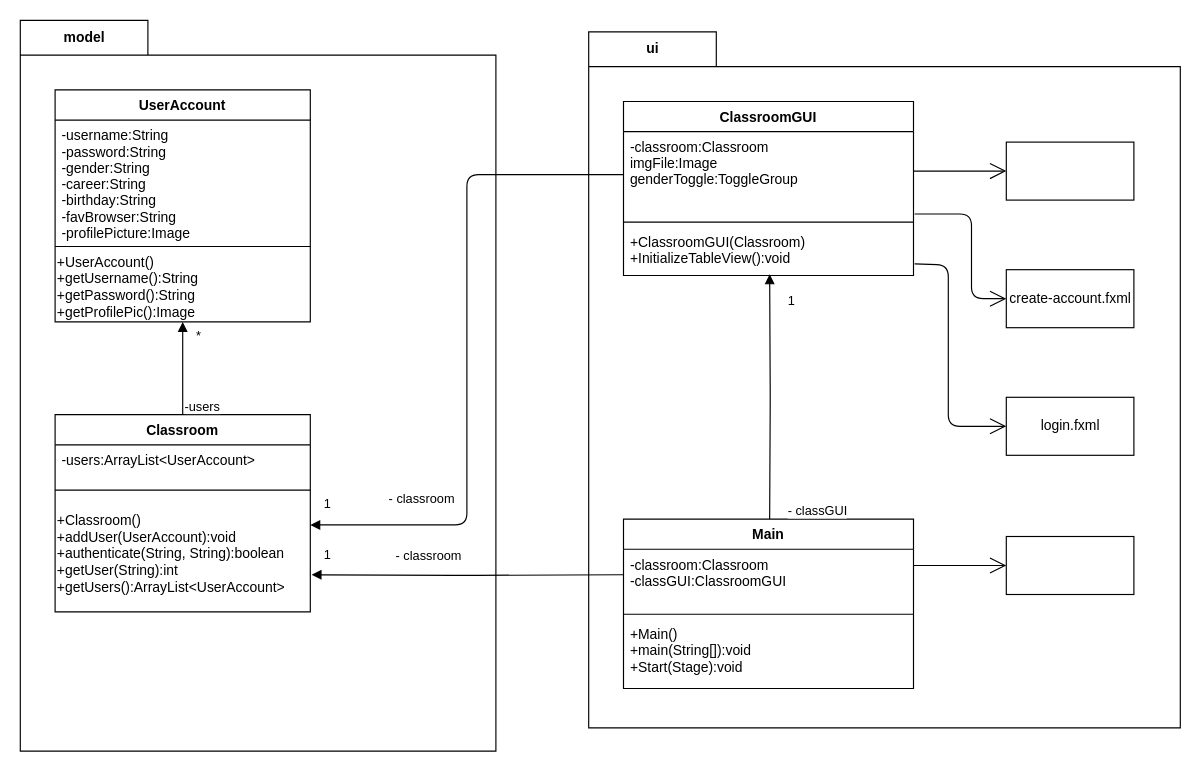
This 1201x771 diagram has some shape labels left out. Each missing label, with the centre of its shape:
"main-pane.fxml" goes at [1069,564].
"user-view.fxml" goes at [1069,170].
